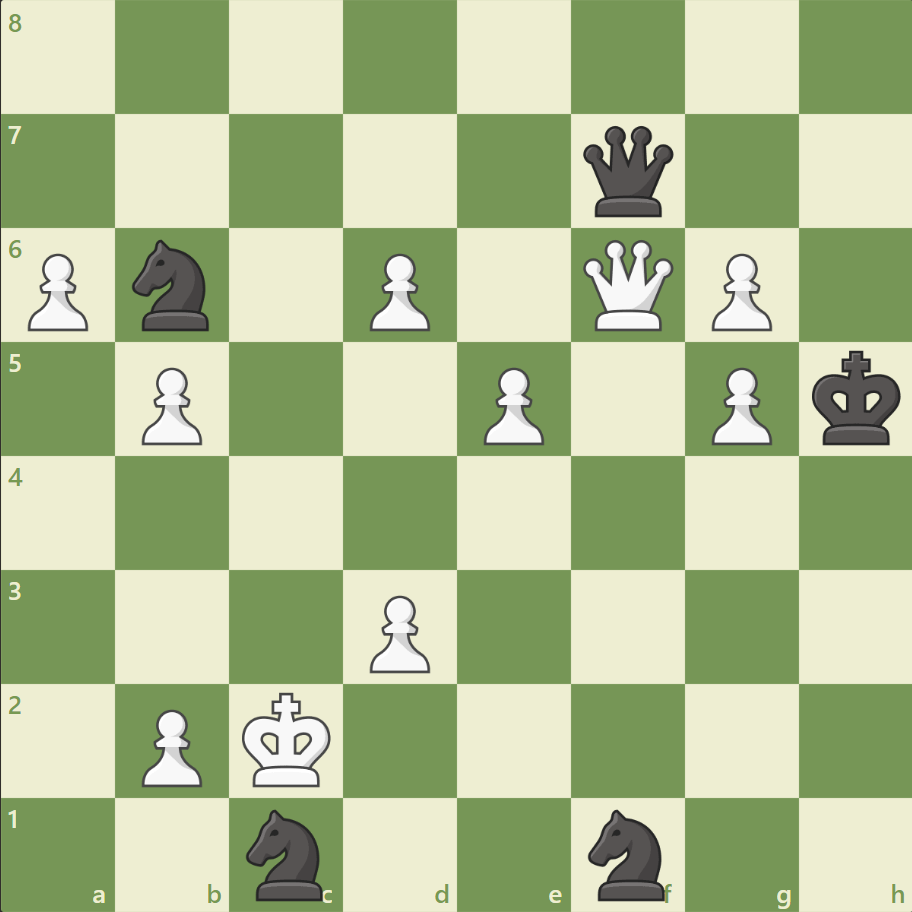K: (238, 685, 338, 793)
P: (20, 246, 95, 337), (701, 246, 776, 337), (133, 359, 208, 450), (474, 359, 549, 450), (701, 359, 776, 450), (133, 700, 208, 791), (361, 246, 435, 337), (361, 586, 435, 677)
Q: (578, 236, 677, 335)
k: (806, 344, 906, 452)
n: (124, 234, 222, 337), (238, 802, 335, 904), (579, 802, 676, 904)
q: (578, 122, 677, 222)
